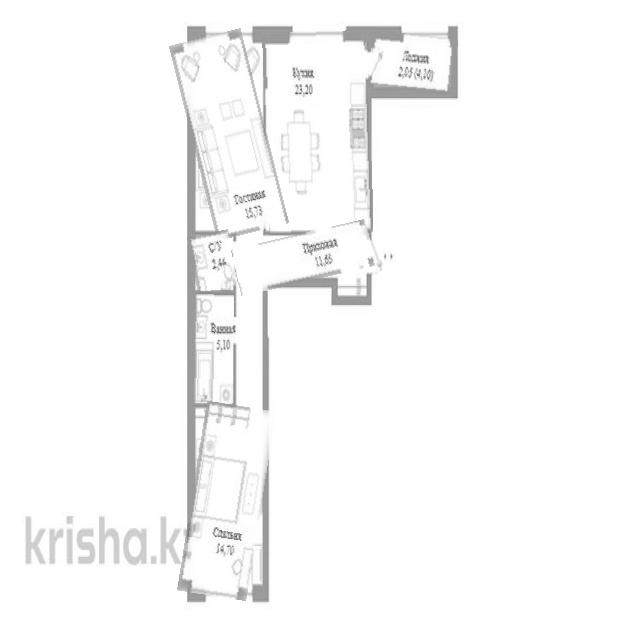balcony: (368, 32, 457, 94)
bathroom: (192, 291, 234, 408), (190, 230, 236, 290)
hallway: (233, 227, 375, 289)
kitchen: (264, 31, 372, 235)
living_room: (181, 31, 277, 238), (185, 403, 269, 599)
